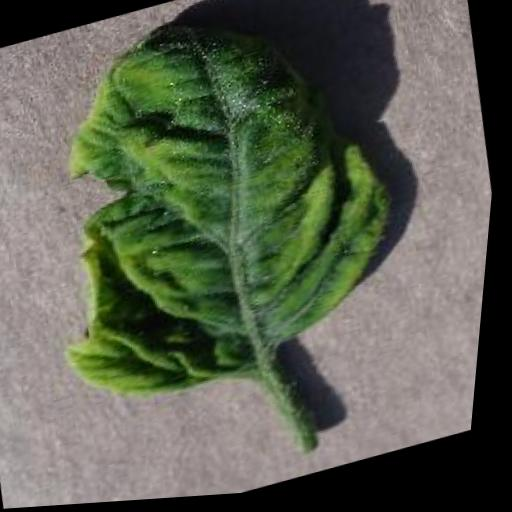Yellow Leaf Curl Virus: (6, 0, 437, 426)
